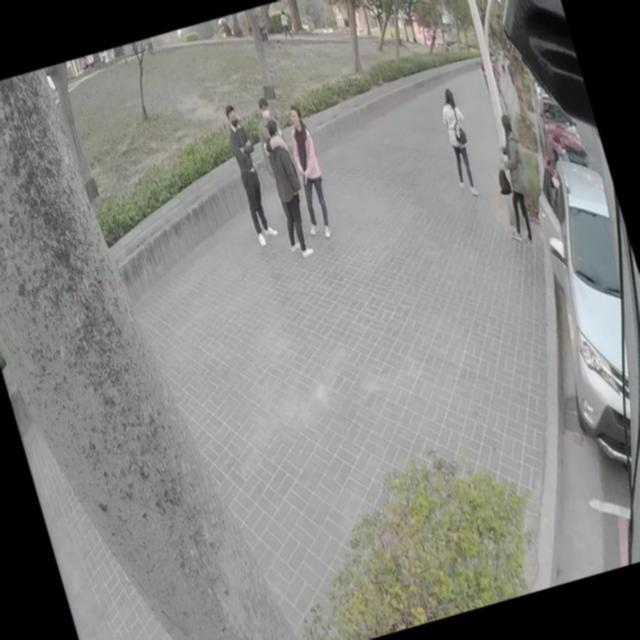person: (219, 100, 280, 247), (254, 118, 316, 257), (484, 111, 545, 247), (280, 102, 339, 240), (434, 87, 486, 196), (249, 95, 274, 128), (275, 8, 293, 42)
